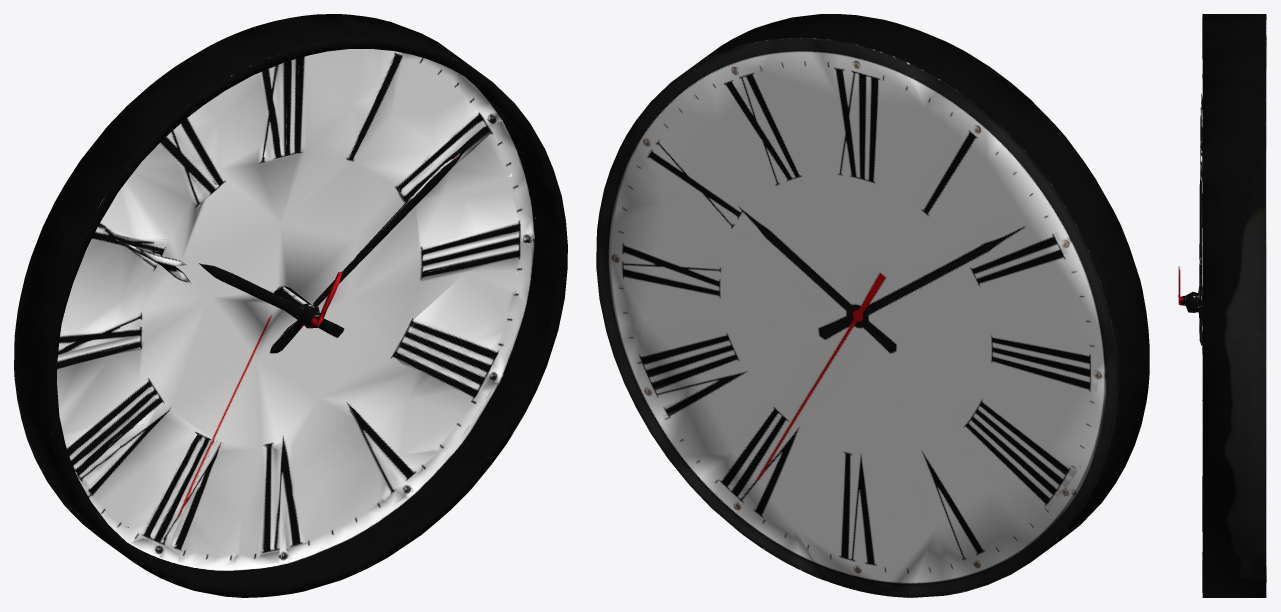
File: Meshy_AI_Roman_Numeral_Clock_0403034613_texture.fbx
3 views of the same model, side by side, from view 1: azimuth 30°, elevation 25°; view 2: azimuth 150°, elevation 25°; view 3: azimuth 270°, elevation 25° (orthographic). The views are drawn at different scales.
Visible parts, largest first — view 1: Mesh_0; view 2: Mesh_0; view 3: Mesh_0.
Boxes of the visible parts, x1=… form: Mesh_0: x1=14, y1=14, x2=567, y2=597; Mesh_0: x1=596, y1=14, x2=1149, y2=597; Mesh_0: x1=1178, y1=14, x2=1266, y2=597.
Bounding box in the file's own units: 191 × 191 × 28.74.
Materials: 1 (1 with a texture image).
